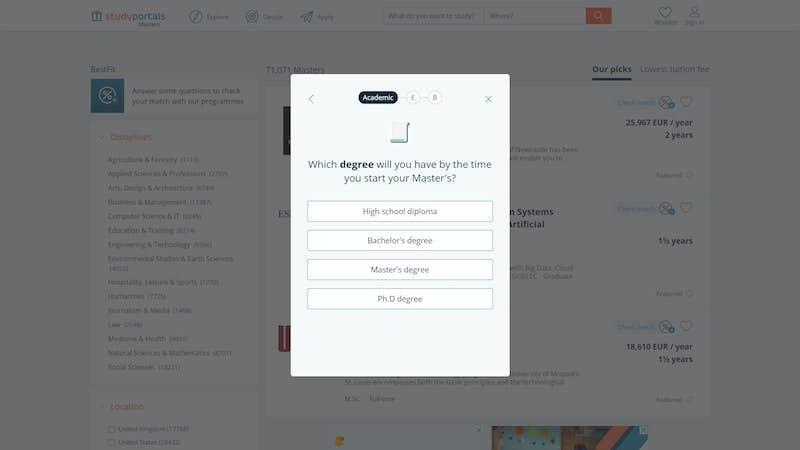button: (309, 229, 494, 251), (308, 202, 494, 223), (308, 260, 494, 281), (308, 288, 494, 309)
icon: (306, 92, 320, 108), (483, 94, 495, 106)
label: (302, 156, 498, 190)
